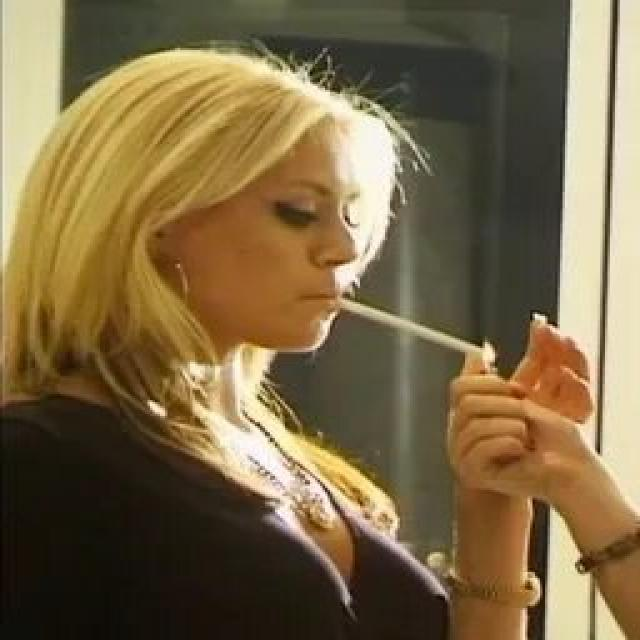smoke: (330, 286, 492, 368)
